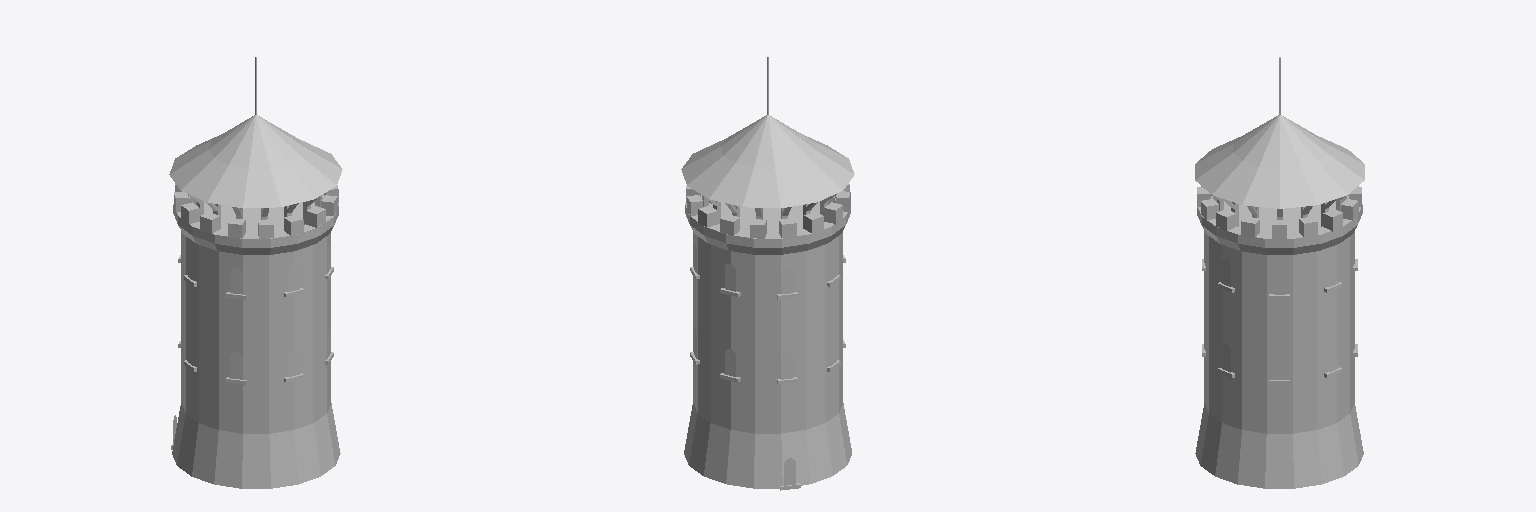
File: RoundTower2LoPoly2.obj
3 renders of one model, left to right at view 1: azimuth 30°, elevation 25°; view 2: azimuth 150°, elevation 25°; view 3: azimuth 270°, elevation 25°, orthographic.
Visible parts, largest first — view 1: Cylinder272, Cone06, Tube48; view 2: Cylinder272, Cone06, Tube48; view 3: Cylinder272, Cone06, Tube48.
Part boxes in pixels (x1,y1,x2,y2): Cylinder272: (172, 201, 340, 488); Cone06: (169, 115, 342, 208); Tube48: (173, 194, 338, 254); Cylinder272: (684, 201, 851, 488); Cone06: (681, 115, 854, 208); Tube48: (685, 195, 850, 254); Cylinder272: (1195, 201, 1363, 488); Cone06: (1195, 115, 1364, 208); Tube48: (1197, 196, 1362, 254).
Size of the model in its own units: 89.81 by 226 by 87.56.